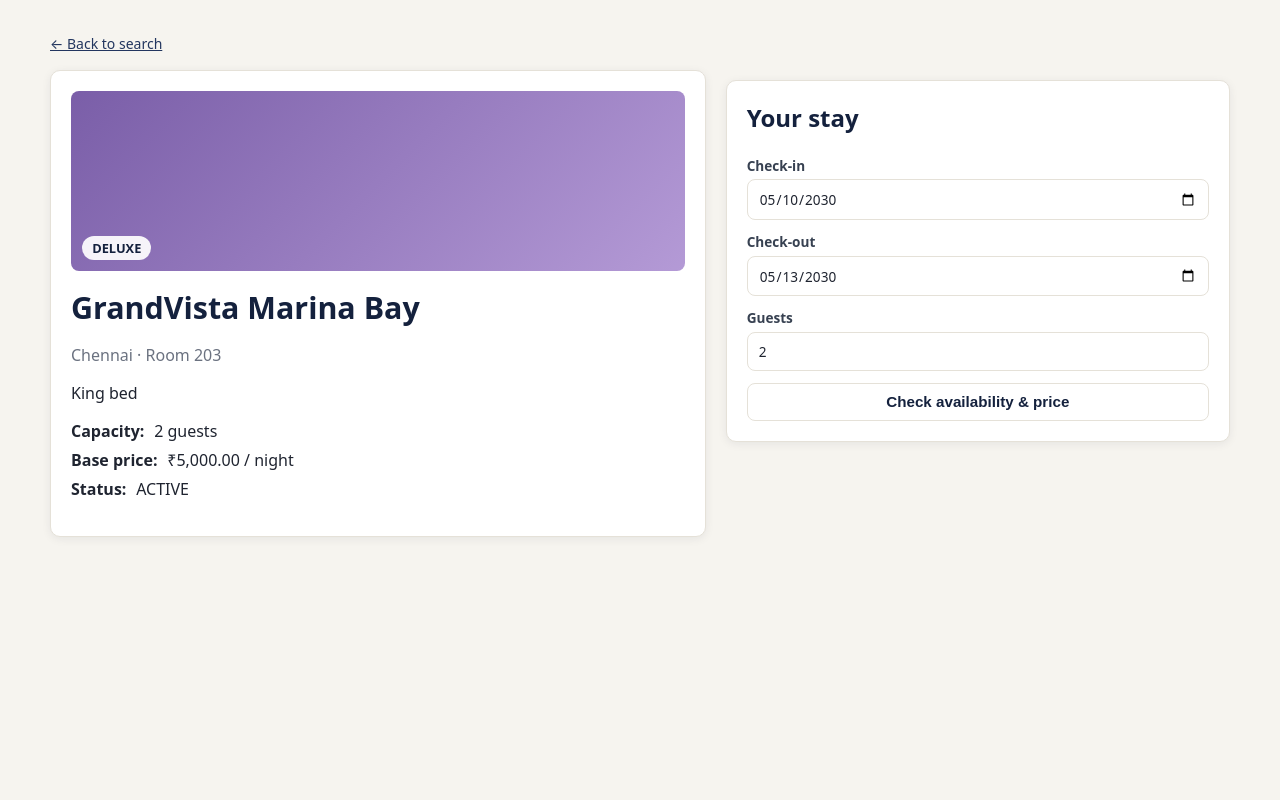
RoomDetailsPage › shows the conflict when someone else took the dates meanwhile and hides the reserve button
Expected: the heading "GrandVista Marina Bay" is shown, [71,287,420,328]
Click the button "Check availability & price".
click(978, 402)  # box [747,383,1209,421]
(page scrolled)
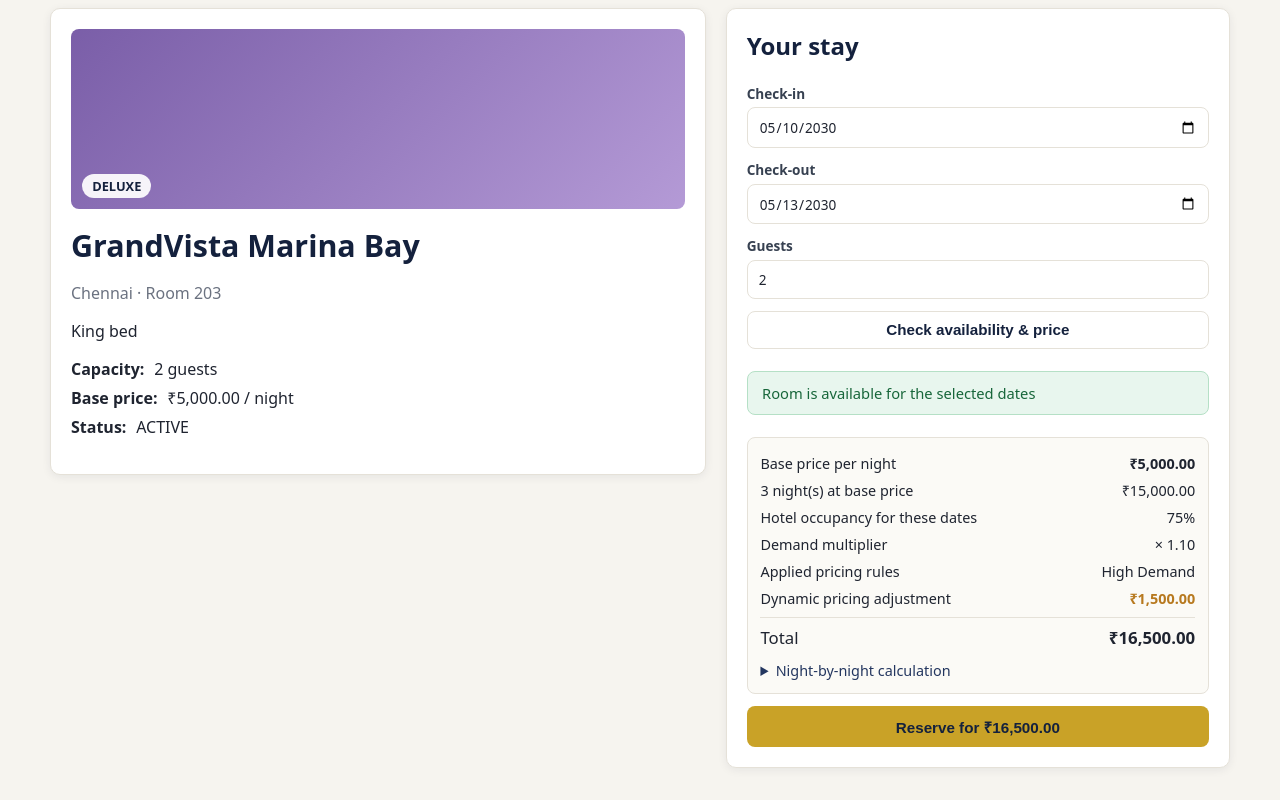
Click the button "Reserve for ₹16,500.00".
click(978, 726)  # box [747,706,1209,747]
(page scrolled)
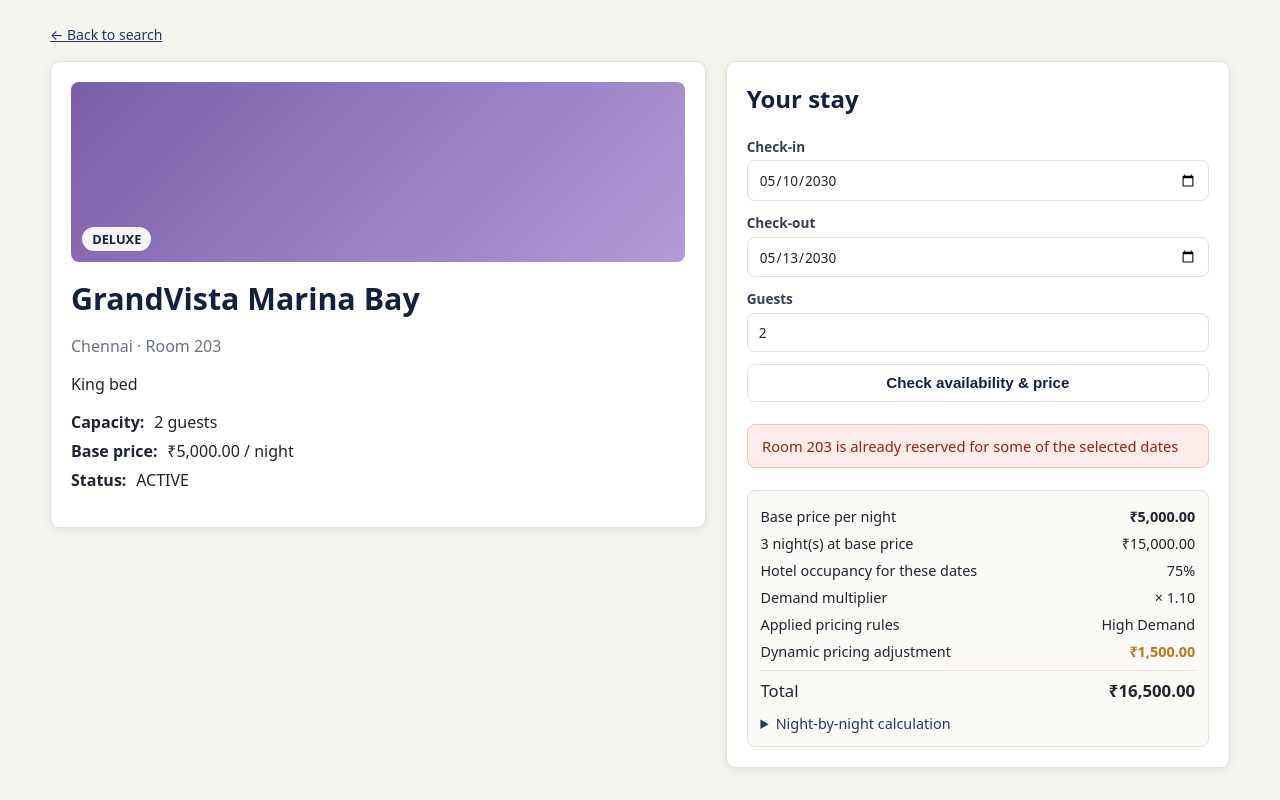
Expected: the message shows "already reserved", [762,436,1178,456]
Expected: the button "Reserve for" is gone
